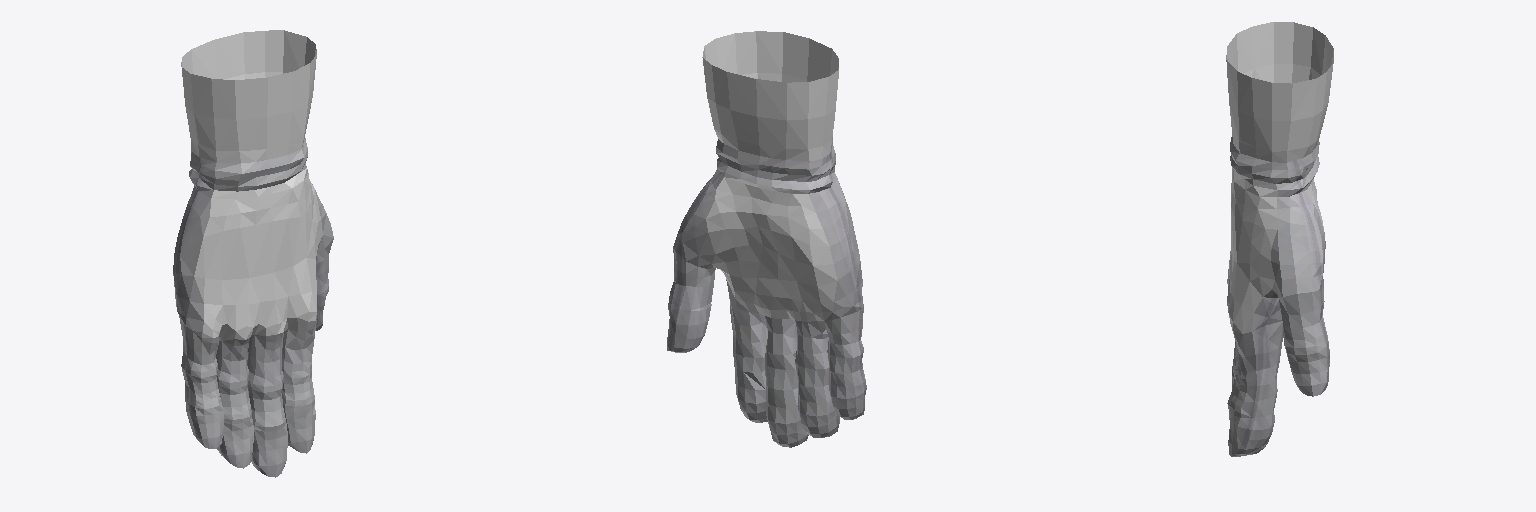
The picture shows the model from 3 angles: view 1: azimuth 30°, elevation 25°; view 2: azimuth 150°, elevation 25°; view 3: azimuth 270°, elevation 25°; orthographic projection.
Parts seen in each view (by area): view 1: polygon0, polygon2, polygon3, polygon4; view 2: polygon0, polygon2, polygon4, polygon3; view 3: polygon0, polygon3, polygon2, polygon4.
Part boxes in pixels (x1,y1,x2,y2): polygon0: (173,138,333,477); polygon2: (194,168,322,342); polygon3: (182,32,316,162); polygon4: (181,30,316,162); polygon0: (667,139,866,447); polygon2: (706,172,837,321); polygon4: (702,31,838,155); polygon3: (703,31,838,161); polygon0: (1227,137,1329,456); polygon3: (1226,22,1333,162); polygon2: (1227,168,1323,333); polygon4: (1226,22,1333,161).
Size of the model in its own units: 31.28 by 72.09 by 17.38.
3 materials, 1 textured.